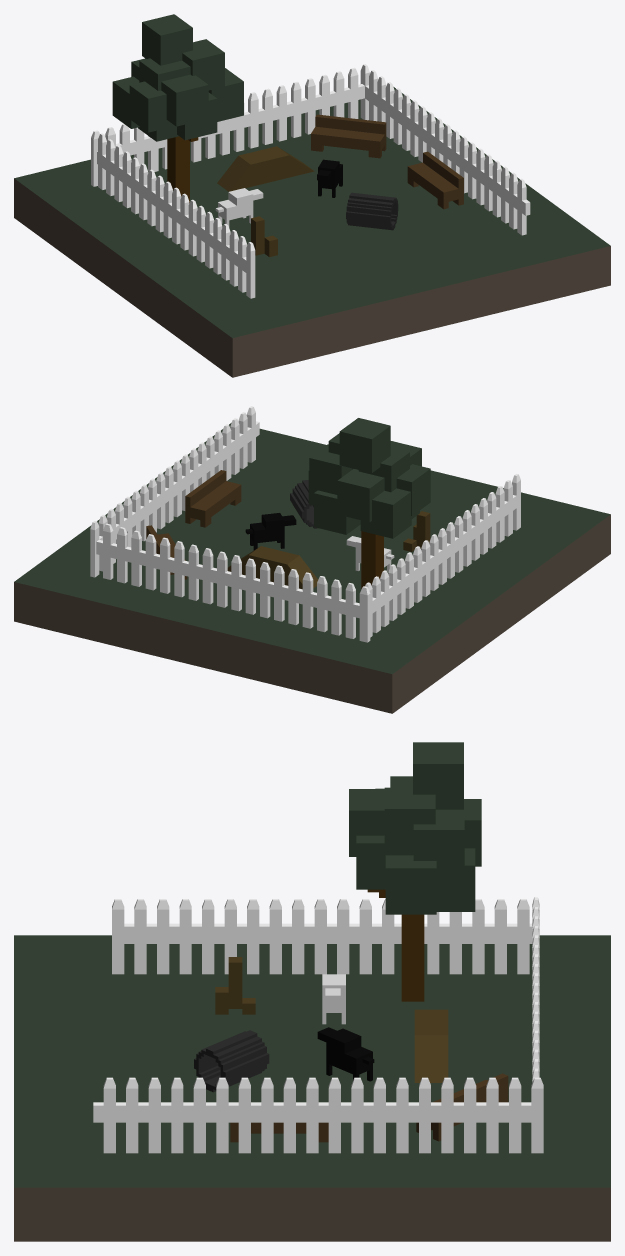
Rendered from park-dog.glb.
The picture shows the model from 3 angles, top to bottom: view 1: azimuth 30°, elevation 25°; view 2: azimuth 150°, elevation 25°; view 3: azimuth 270°, elevation 25°; orthographic projection. The views are drawn at different scales.
Visible parts, largest first — view 1: Windfarm.002; view 2: Windfarm.002; view 3: Windfarm.002.
Part boxes in pixels (left/top/right/bottom): Windfarm.002: left=14, top=14, right=610, bottom=377; Windfarm.002: left=14, top=406, right=610, bottom=713; Windfarm.002: left=14, top=742, right=610, bottom=1241.
Size of the model in its own units: 1 by 0.5481 by 1.
